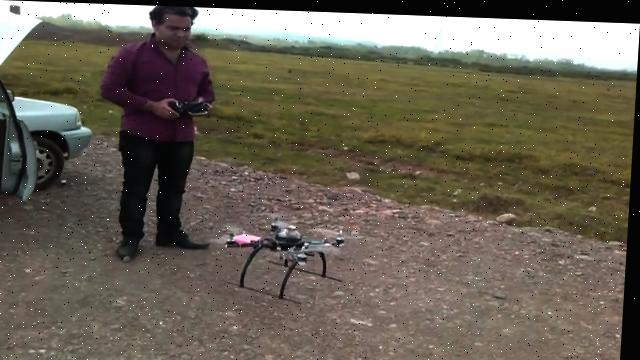drone: (215, 206, 358, 302)
